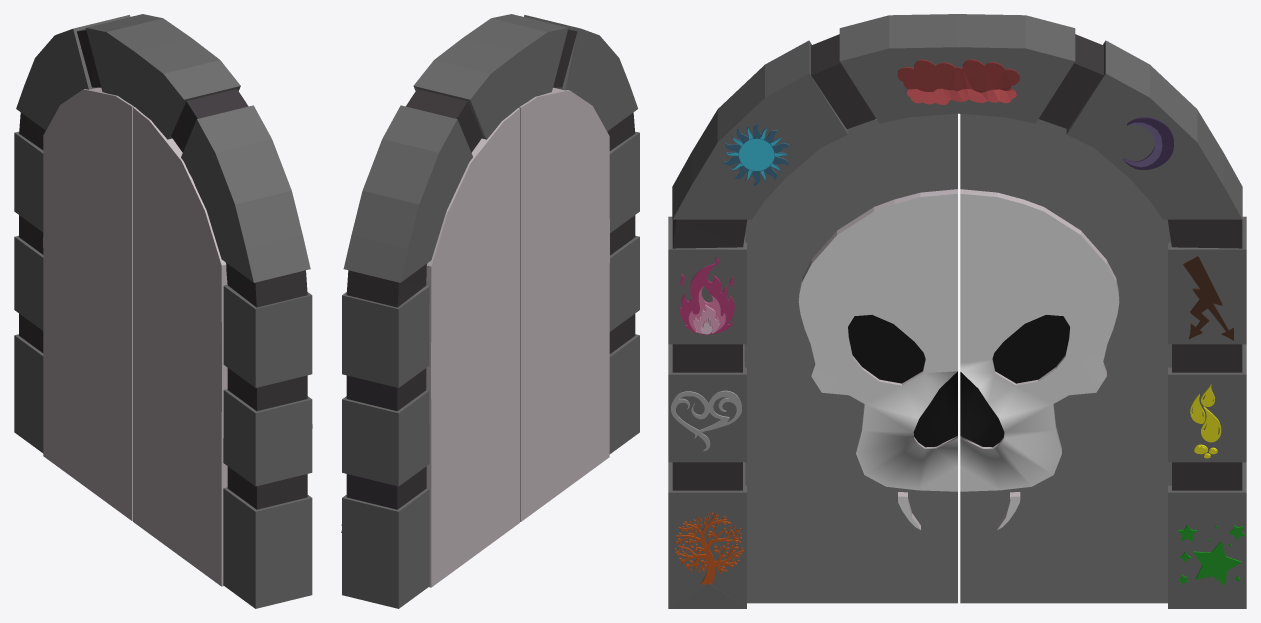
The model's file is LustDoorPack.fbx.
The picture shows the model from 3 angles, left to right: view 1: azimuth 30°, elevation 25°; view 2: azimuth 150°, elevation 25°; view 3: azimuth 270°, elevation 25°; orthographic projection. The views are drawn at different scales.
Parts seen in each view (by area): view 1: lustdoorframe, lustdoor_inleft, lustdoor_inright; view 2: lustdoorframe, lustdoor_inright, lustdoor_inleft; view 3: lustdoorframe, lustdoor_inleft, lustdoor_inright.
Part boxes in pixels (x1=…): lustdoorframe: x1=14, y1=14, x2=312, y2=608; lustdoor_inleft: x1=133, y1=107, x2=227, y2=586; lustdoor_inright: x1=43, y1=87, x2=133, y2=520; lustdoorframe: x1=341, y1=14, x2=639, y2=608; lustdoor_inright: x1=426, y1=108, x2=519, y2=587; lustdoor_inleft: x1=519, y1=87, x2=609, y2=521; lustdoorframe: x1=668, y1=14, x2=1246, y2=608; lustdoor_inleft: x1=744, y1=113, x2=957, y2=603; lustdoor_inright: x1=960, y1=114, x2=1171, y2=603.
Bounding box in the file's own units: 100 × 741 × 689.
